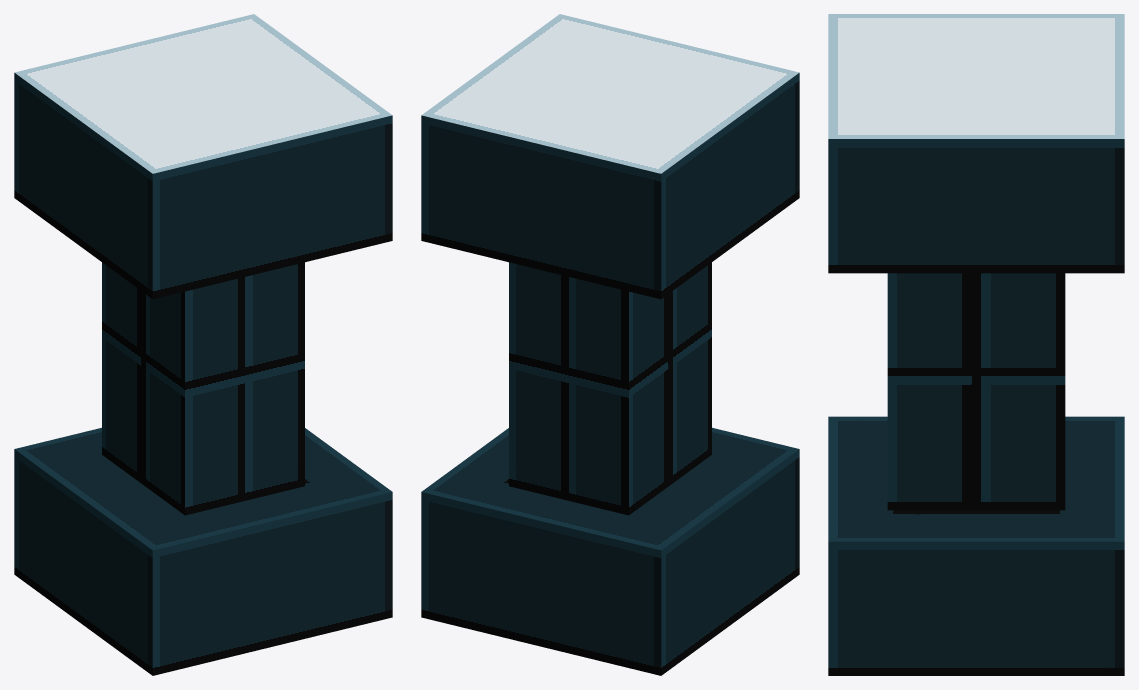
File: Pillar.glb
3 views of the same model, side by side, from view 1: azimuth 30°, elevation 25°; view 2: azimuth 150°, elevation 25°; view 3: azimuth 270°, elevation 25° (orthographic). The views are drawn at different scales.
Parts seen in each view (by area): view 1: Cube; view 2: Cube; view 3: Cube.
Boxes of the visible parts, x1,y1,x2,y2 form: Cube: (14, 14, 392, 675); Cube: (421, 14, 799, 675); Cube: (828, 14, 1124, 675).
Bounding box in the file's own units: 1 × 2 × 1.
1 material, 1 textured.
